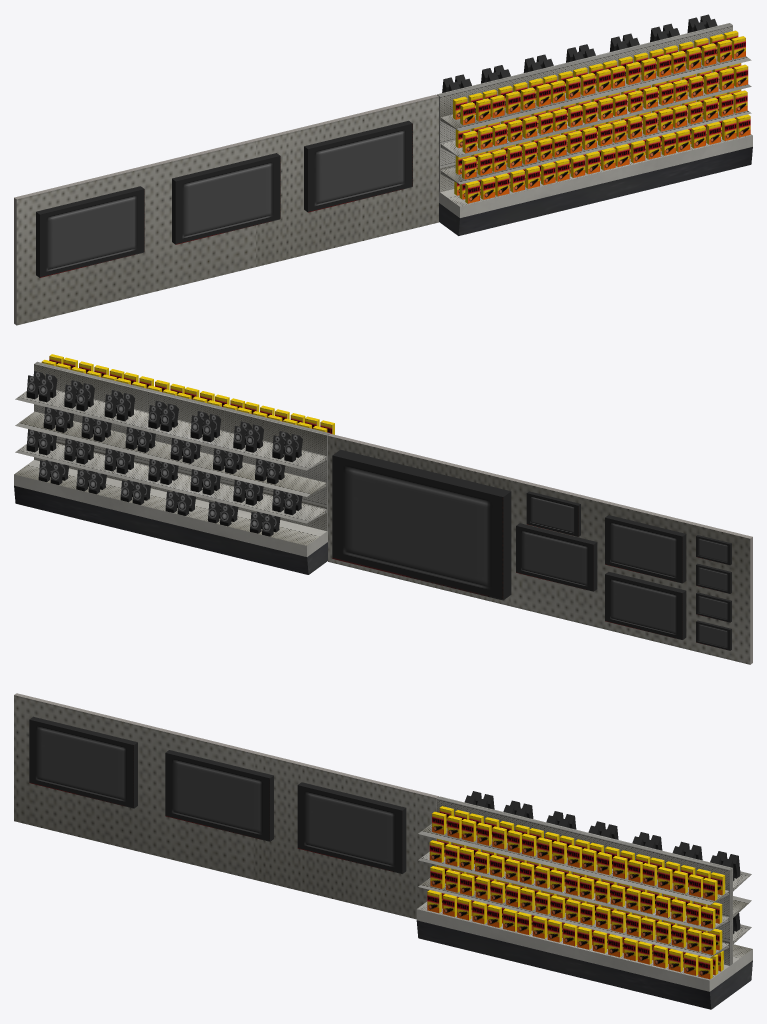
The model's file is TV_rack.fbx.
3 views of the same model, one above another, from view 1: azimuth 30°, elevation 25°; view 2: azimuth 150°, elevation 25°; view 3: azimuth 330°, elevation 25° (orthographic).
Visible parts, largest first — view 1: TV_rack; view 2: TV_rack; view 3: TV_rack.
Part boxes in pixels (x1,y1,x2,y2): TV_rack: [14, 14, 752, 325]; TV_rack: [14, 354, 752, 664]; TV_rack: [14, 693, 752, 1009].
Bounding box in the file's own units: 11.39 × 1.92 × 1.19.
